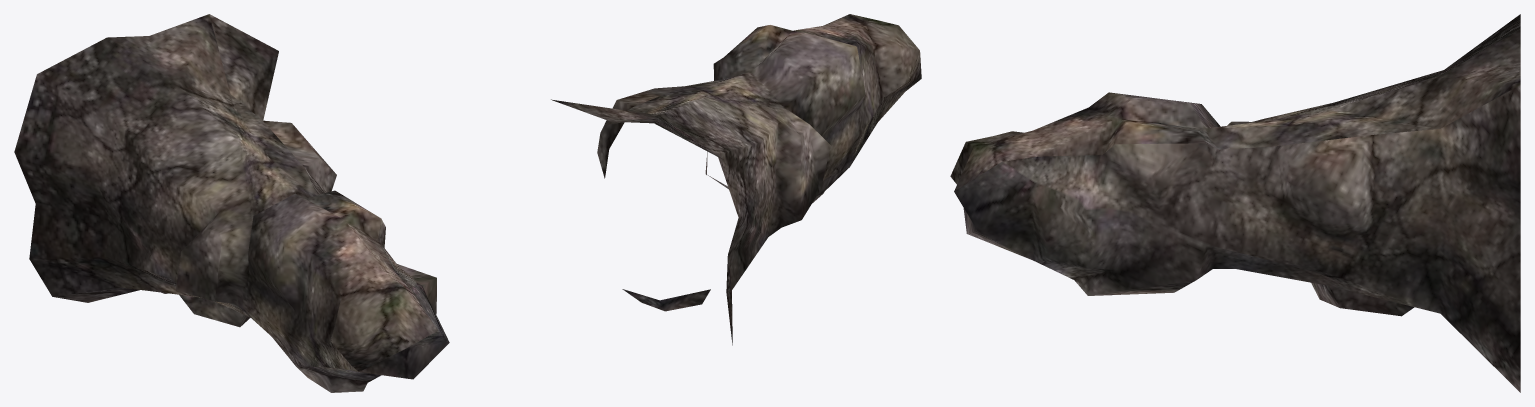
The picture shows the model from 3 angles, left to right: view 1: azimuth 30°, elevation 25°; view 2: azimuth 150°, elevation 25°; view 3: azimuth 270°, elevation 25°; orthographic projection. The views are drawn at different scales.
Parts seen in each view (by area): view 1: model_Object17; view 2: model_Object17; view 3: model_Object17.
Part boxes in pixels (x1,y1,x2,y2): model_Object17: [14, 14, 449, 392]; model_Object17: [551, 14, 921, 345]; model_Object17: [950, 14, 1520, 392].
Size of the model in its own units: 2.21 by 2.19 by 3.81.
Materials: 1 (1 with a texture image).
